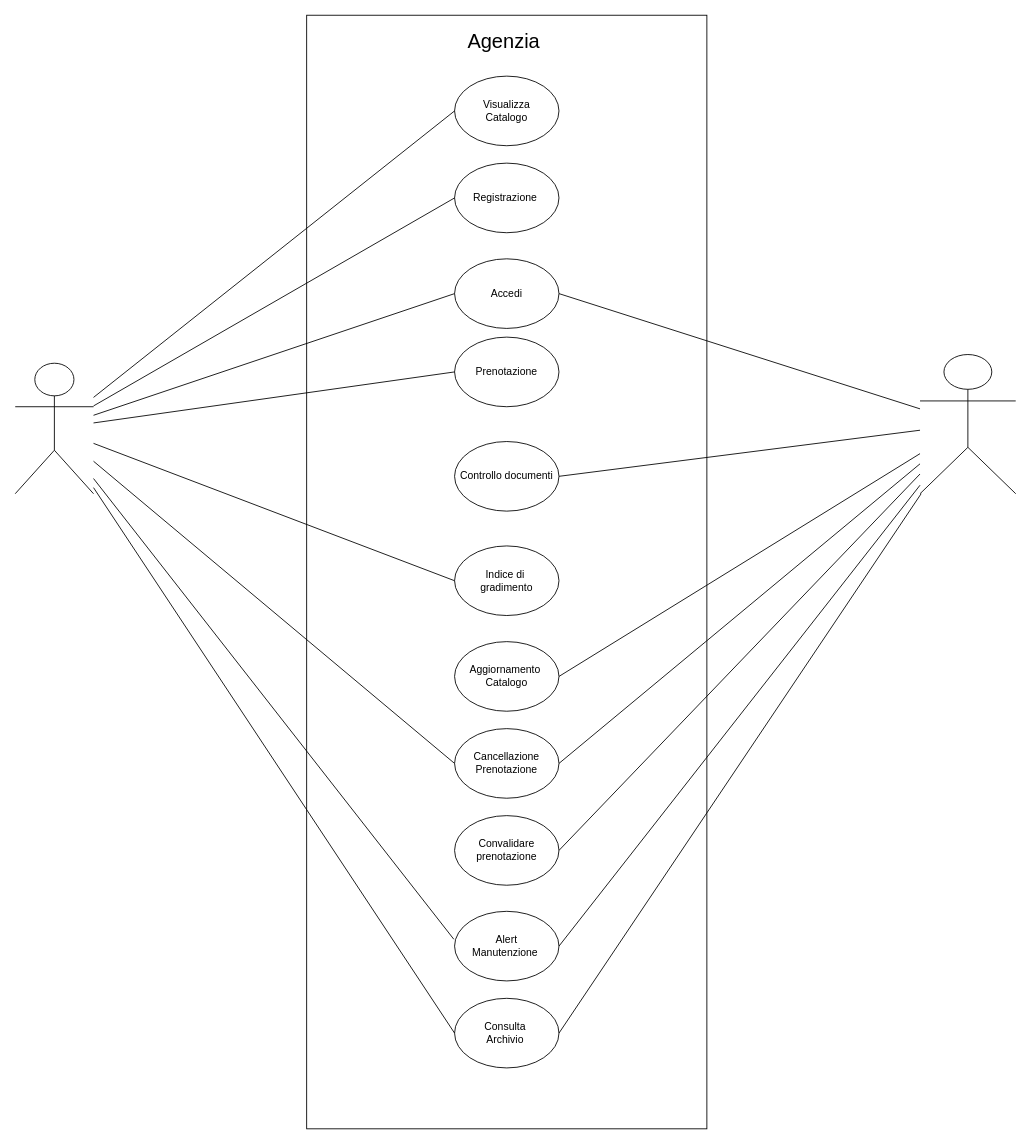
Image size: 1031x1144. Some labels were removed from this diagram. Each missing label, with the box of its shape:
BackOffice: (919, 354, 1016, 494)
Utente: (14, 362, 94, 494)
